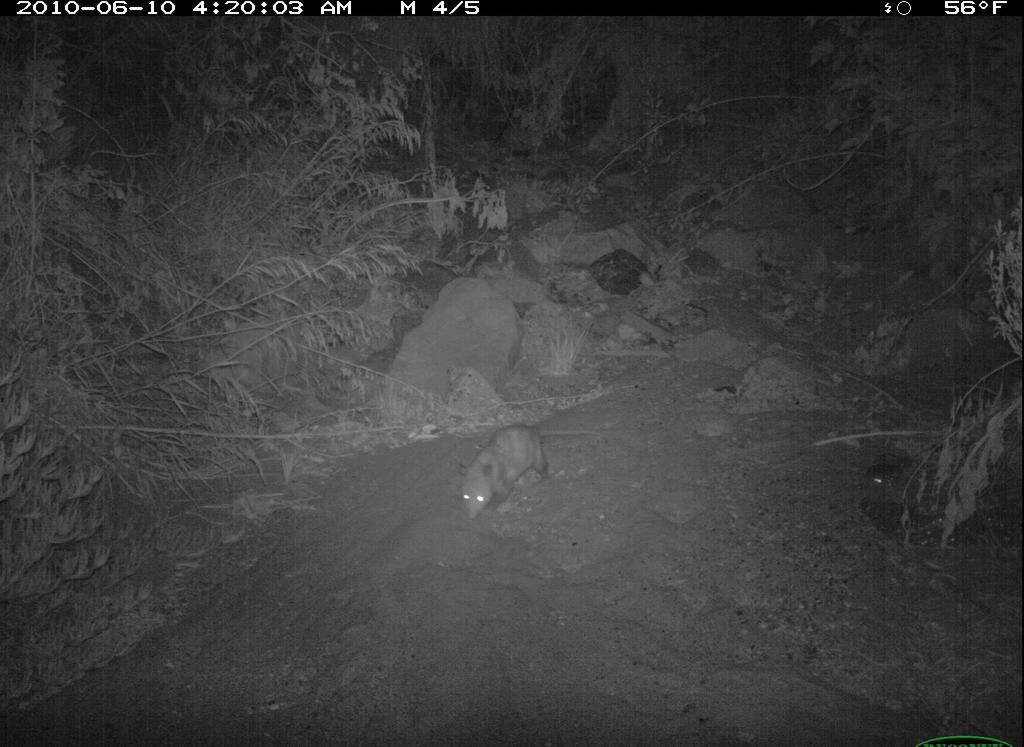opossum: (447, 414, 601, 532)
